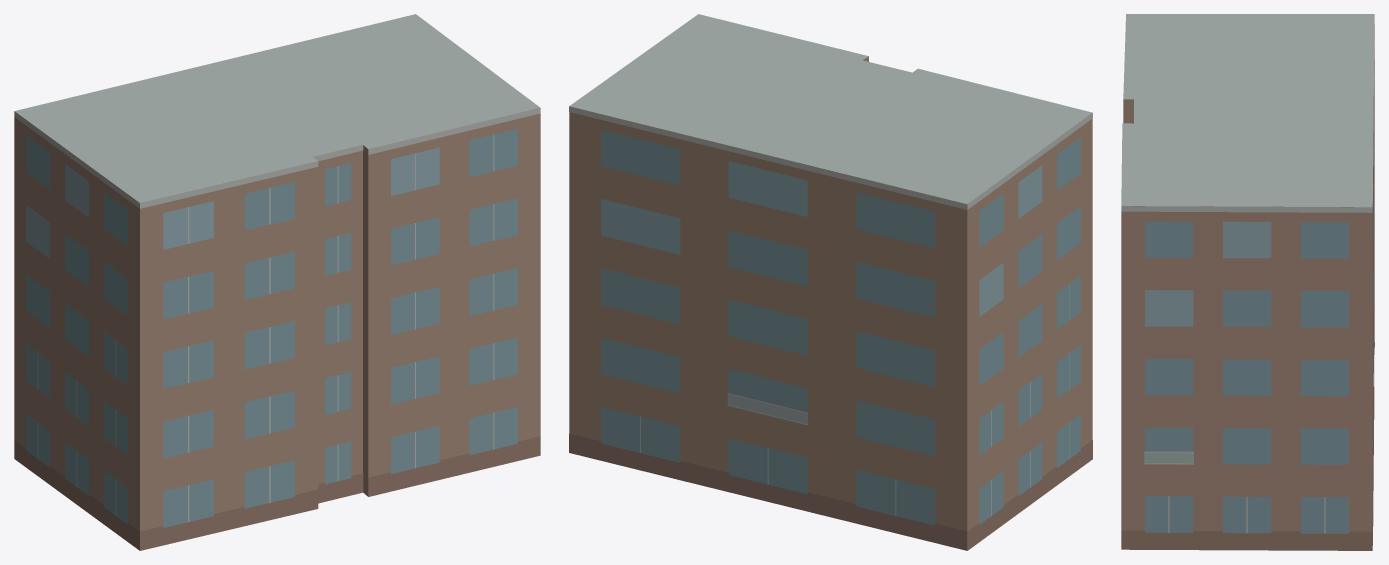
File: survey-upis-32875490.glb
3 views of the same model, side by side, from view 1: azimuth 30°, elevation 25°; view 2: azimuth 150°, elevation 25°; view 3: azimuth 270°, elevation 25° (orthographic).
Visible parts, largest first — view 1: survey-upis-32875490.tmp; view 2: survey-upis-32875490.tmp; view 3: survey-upis-32875490.tmp.
Boxes of the visible parts, left/top/right/bottom form: survey-upis-32875490.tmp: left=14, top=14, right=540, bottom=550; survey-upis-32875490.tmp: left=569, top=14, right=1092, bottom=550; survey-upis-32875490.tmp: left=1121, top=14, right=1374, bottom=550.
Size of the model in its own units: 17.98 by 14.9 by 9.97.
